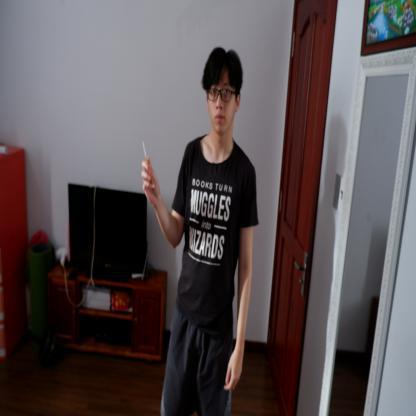cigarette: (142, 140, 148, 162)
person: (151, 45, 259, 415)
